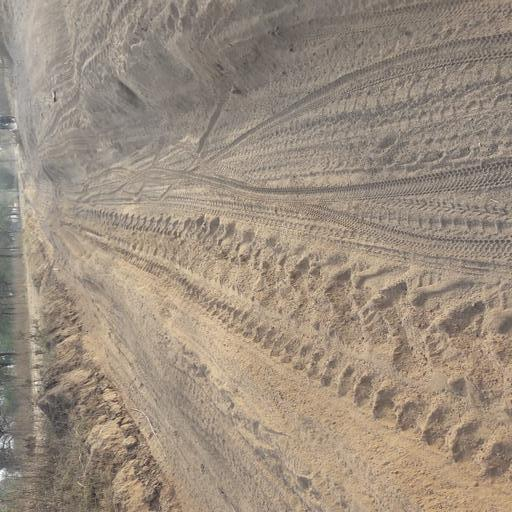vehicle_track: (61, 0, 512, 494), (66, 281, 316, 512)
